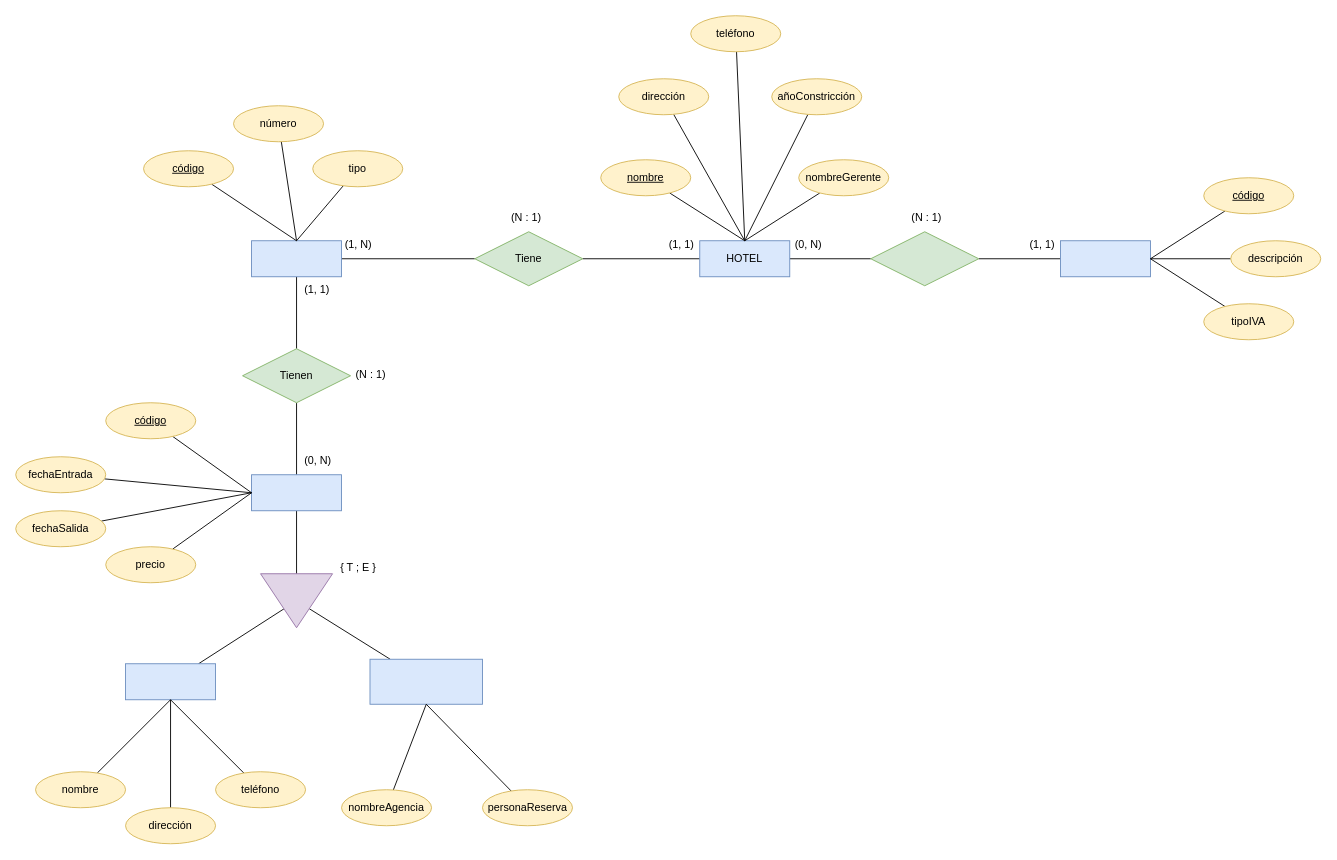
Some shapes in this 1337 by 860 pixel diagram are drawn without their labels. The shapes that lost their labels are listed below. From the top down, each one's centre as x and y in pixels, then its label:
point 296,258: HABITACIONES
point 924,258: Clasificado
point 1105,258: CATEGORIA
point 296,492: RESERVA
point 170,681: PARTICULAR
point 425,681: AGENCIA_VIAJES
